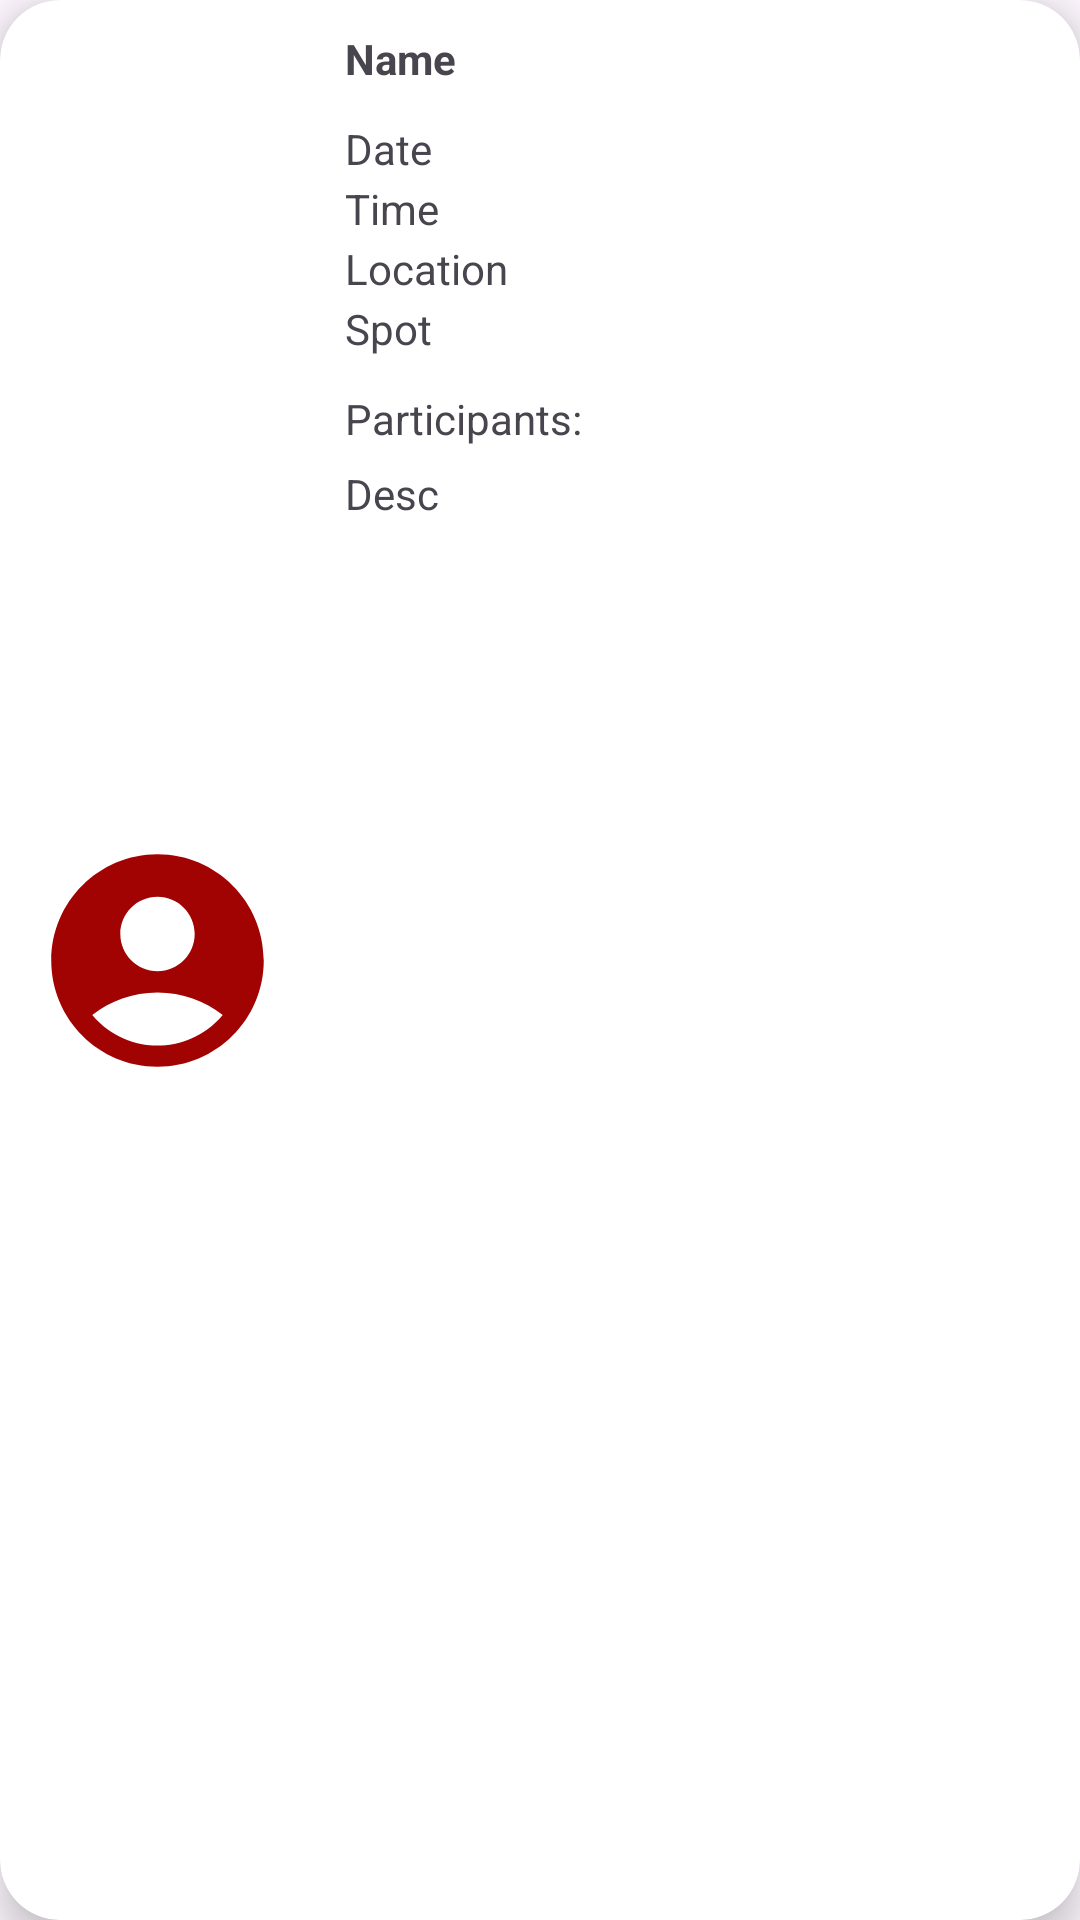

Icons on this 1080*1920 Android screen, each with the point to tap as (x=x, y=y):
account: (x=157, y=960)
